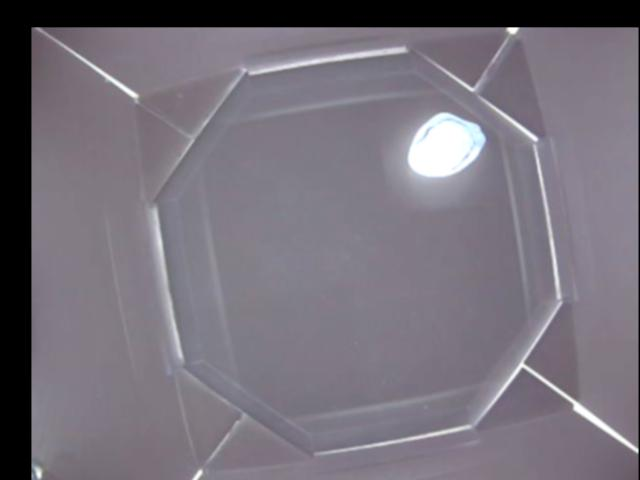Pebble: (405, 110, 485, 177)
